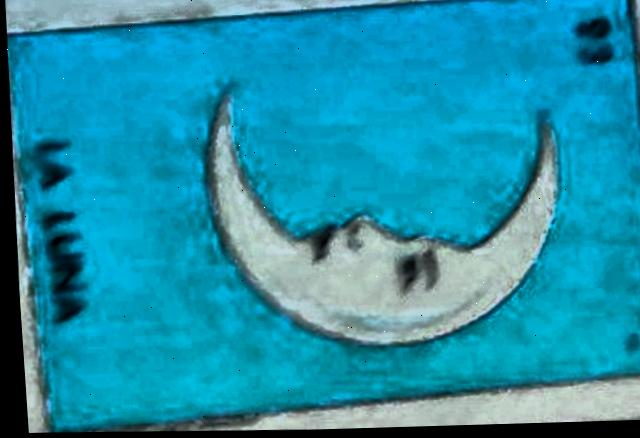La Luna: (7, 0, 640, 432)
